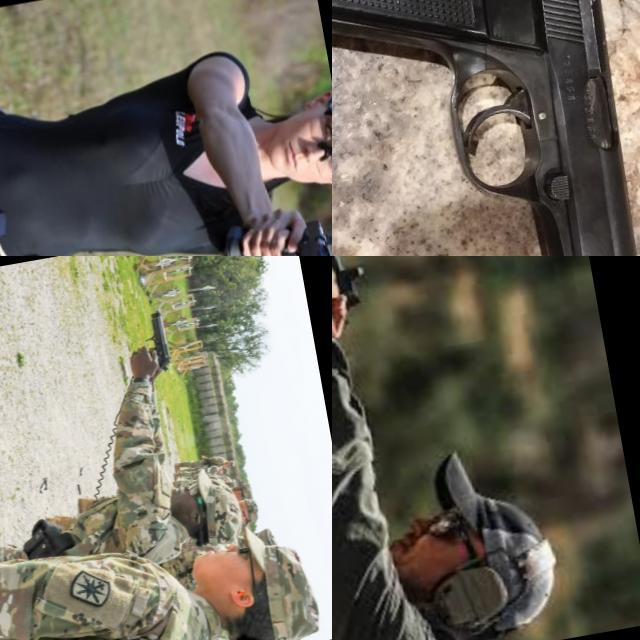handgun: (332, 0, 640, 256), (332, 256, 403, 365), (210, 198, 332, 256), (134, 304, 178, 377)
